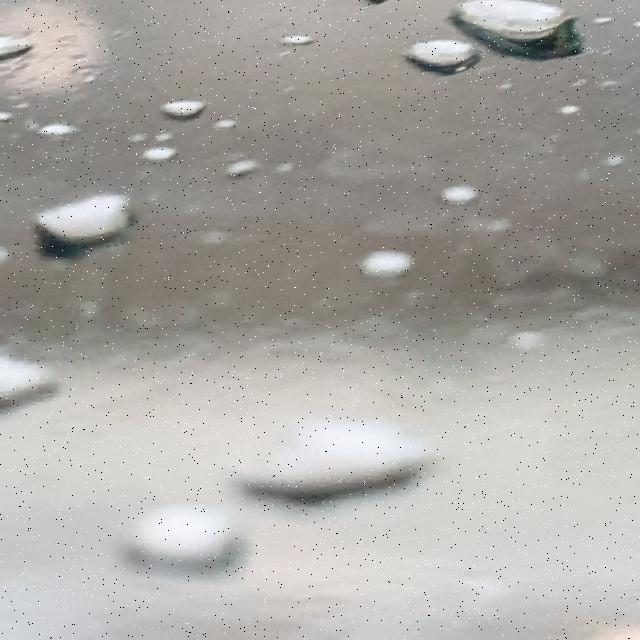raindrop: (210, 408, 446, 508), (119, 485, 258, 581), (14, 191, 146, 263), (433, 0, 581, 61), (338, 227, 428, 284), (0, 342, 67, 410), (388, 41, 477, 84), (214, 154, 267, 194), (130, 142, 187, 172), (31, 110, 75, 146), (159, 92, 212, 121), (428, 175, 482, 202), (273, 28, 317, 61), (0, 27, 39, 62)
